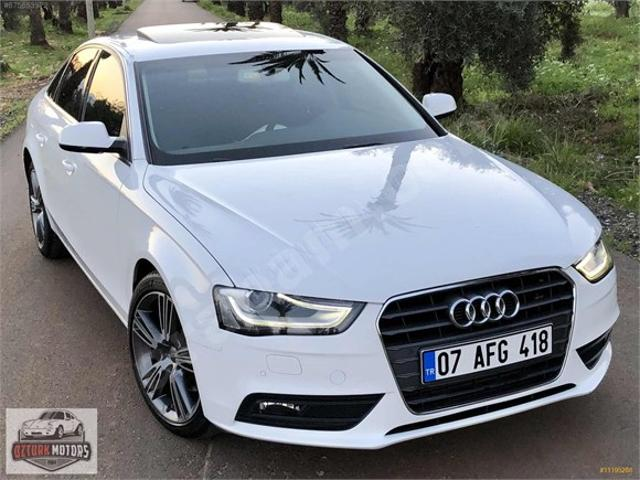audi: (444, 287, 523, 331)
